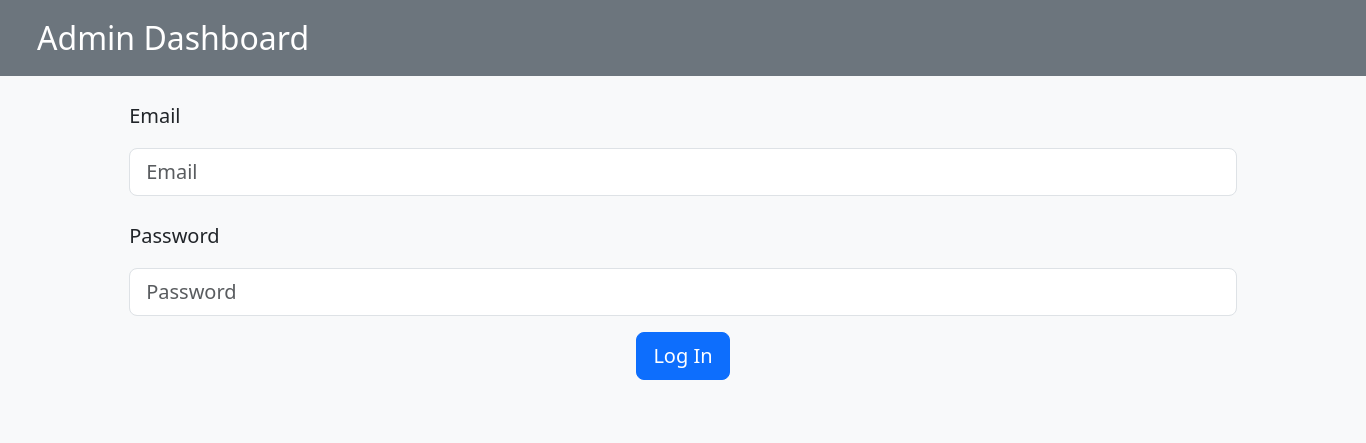
Scenario: Error when logging in › shows error when login fails
In the field labelled "Email": (683, 172) [129,148,1237,196], type "bad@example.com"
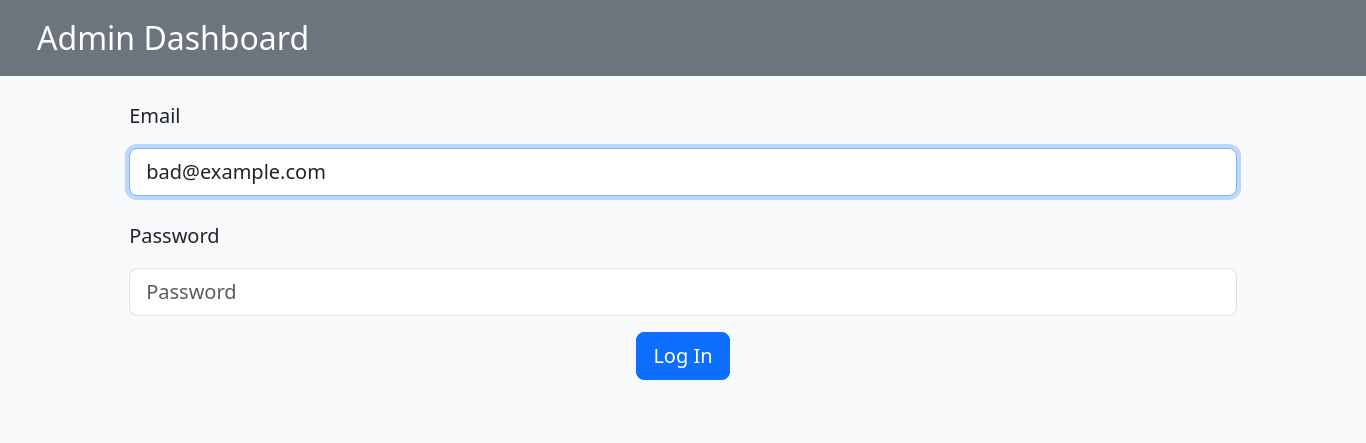
In the password field labelled "Password": (683, 292) [129,268,1237,316], type "wrongpass"
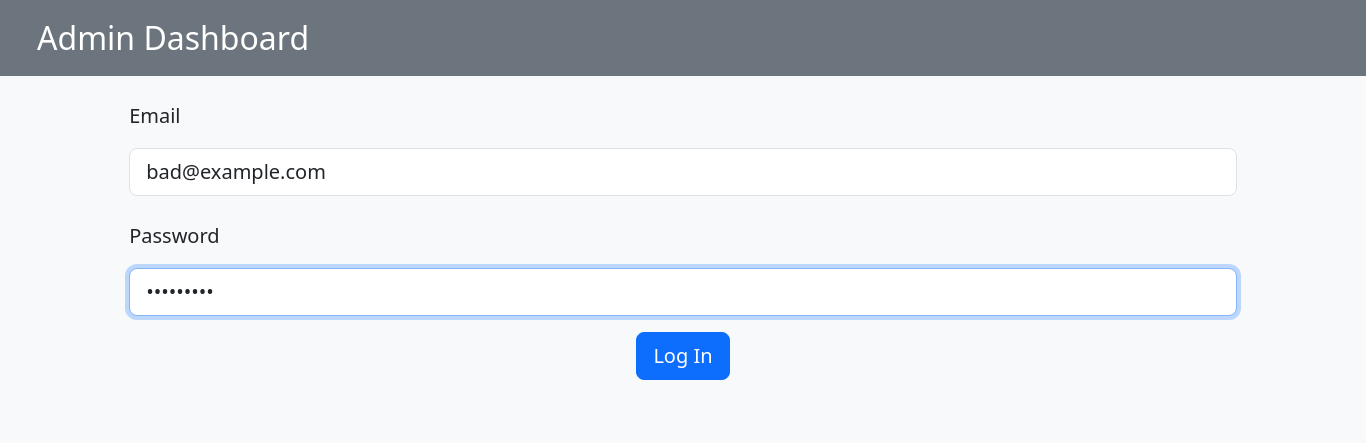
Click the button "Log In": (683, 356) [636,332,730,380]
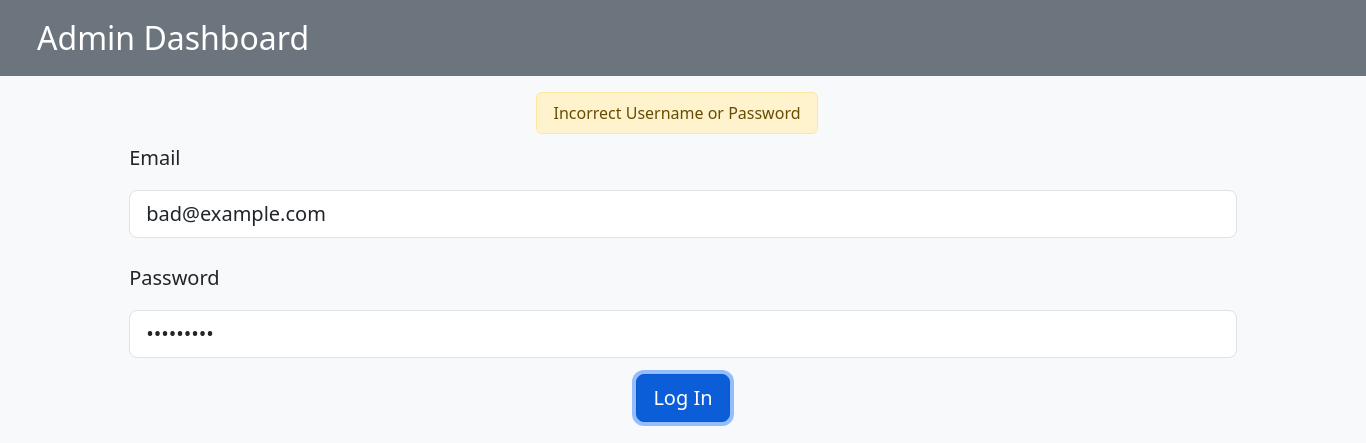
Result: the list item "Incorrect Username or Password" is shown at [536,92,818,134]
